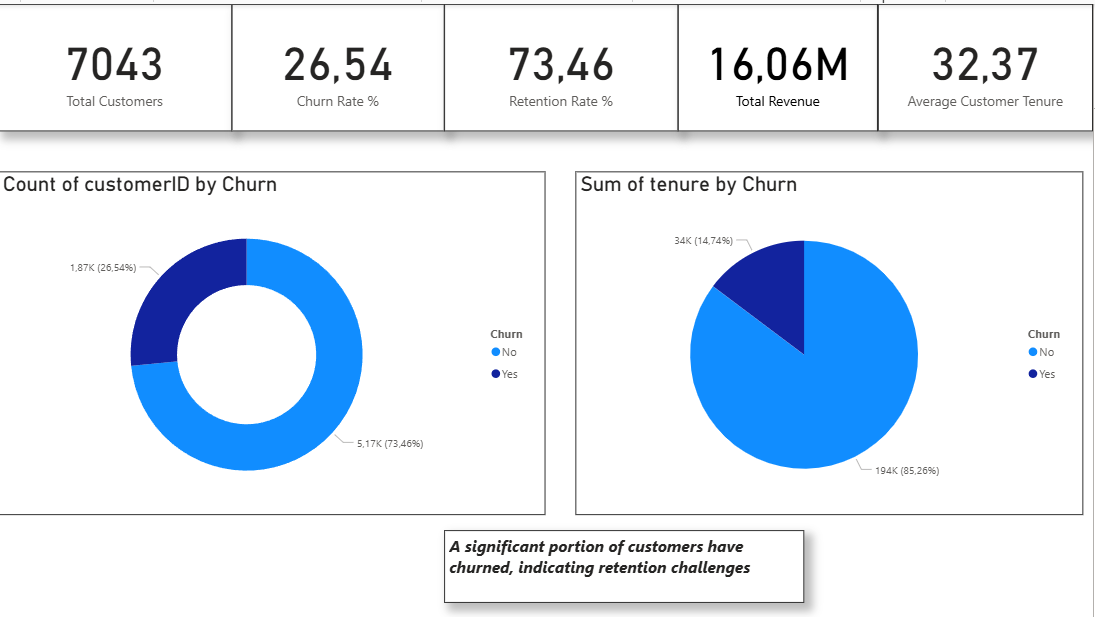

Layout of this report page (visuals, bound fields, positions):
{"tool":"powerbi","page":{"name":"Executive Overview","canvas":[1280,720],"ordinal":0},"visuals":[{"type":"card","fields":{"Values":["Cleaned_Data.Total Customers"]},"box":[0,0,273.3,149.1],"z":0},{"type":"card","fields":{"Values":["Cleaned_Data.Churn Rate %"]},"box":[273.3,0,248.5,149.1],"z":1000},{"type":"card","fields":{"Values":["Cleaned_Data.Retention Rate %"]},"box":[521.8,0,273.3,149.1],"z":2000},{"type":"card","fields":{"Values":["Cleaned_Data.Total Revenue"]},"box":[795.1,0,233.8,149.1],"z":3000},{"type":"card","fields":{"Values":["Cleaned_Data.Average Customer Tenure"]},"box":[1028.9,0,251.4,149.1],"z":4000},{"type":"donutChart","fields":{"Category":["Cleaned_Data.Churn"],"Y":["CountNonNull(Cleaned_Data.customerID)"]},"box":[0,195.8,640.1,401.9],"z":5000},{"type":"textbox","box":[521.8,615.3,420.9,84.8],"z":6000},{"type":"pieChart","fields":{"Category":["Cleaned_Data.Churn"],"Y":["Sum(Cleaned_Data.tenure)"]},"box":[675.2,195.8,593.4,401.9],"z":7000}]}

Visuals, with their boxes in screenshot pixels (x1, y1, x2, y2), scaled from the page's 1280x720 canvas onto the 1095x617 screenshot:
card - Cleaned_Data.Total Customers: <bbox>0, 0, 234, 128</bbox>
card - Cleaned_Data.Churn Rate %: <bbox>234, 0, 446, 128</bbox>
card - Cleaned_Data.Retention Rate %: <bbox>446, 0, 680, 128</bbox>
card - Cleaned_Data.Total Revenue: <bbox>680, 0, 880, 128</bbox>
card - Cleaned_Data.Average Customer Tenure: <bbox>880, 0, 1094, 128</bbox>
donutChart - Cleaned_Data.Churn x CountNonNull(Cleaned_Data.customerID): <bbox>0, 168, 548, 512</bbox>
textbox: <bbox>446, 527, 806, 600</bbox>
pieChart - Cleaned_Data.Churn x Sum(Cleaned_Data.tenure): <bbox>578, 168, 1085, 512</bbox>
